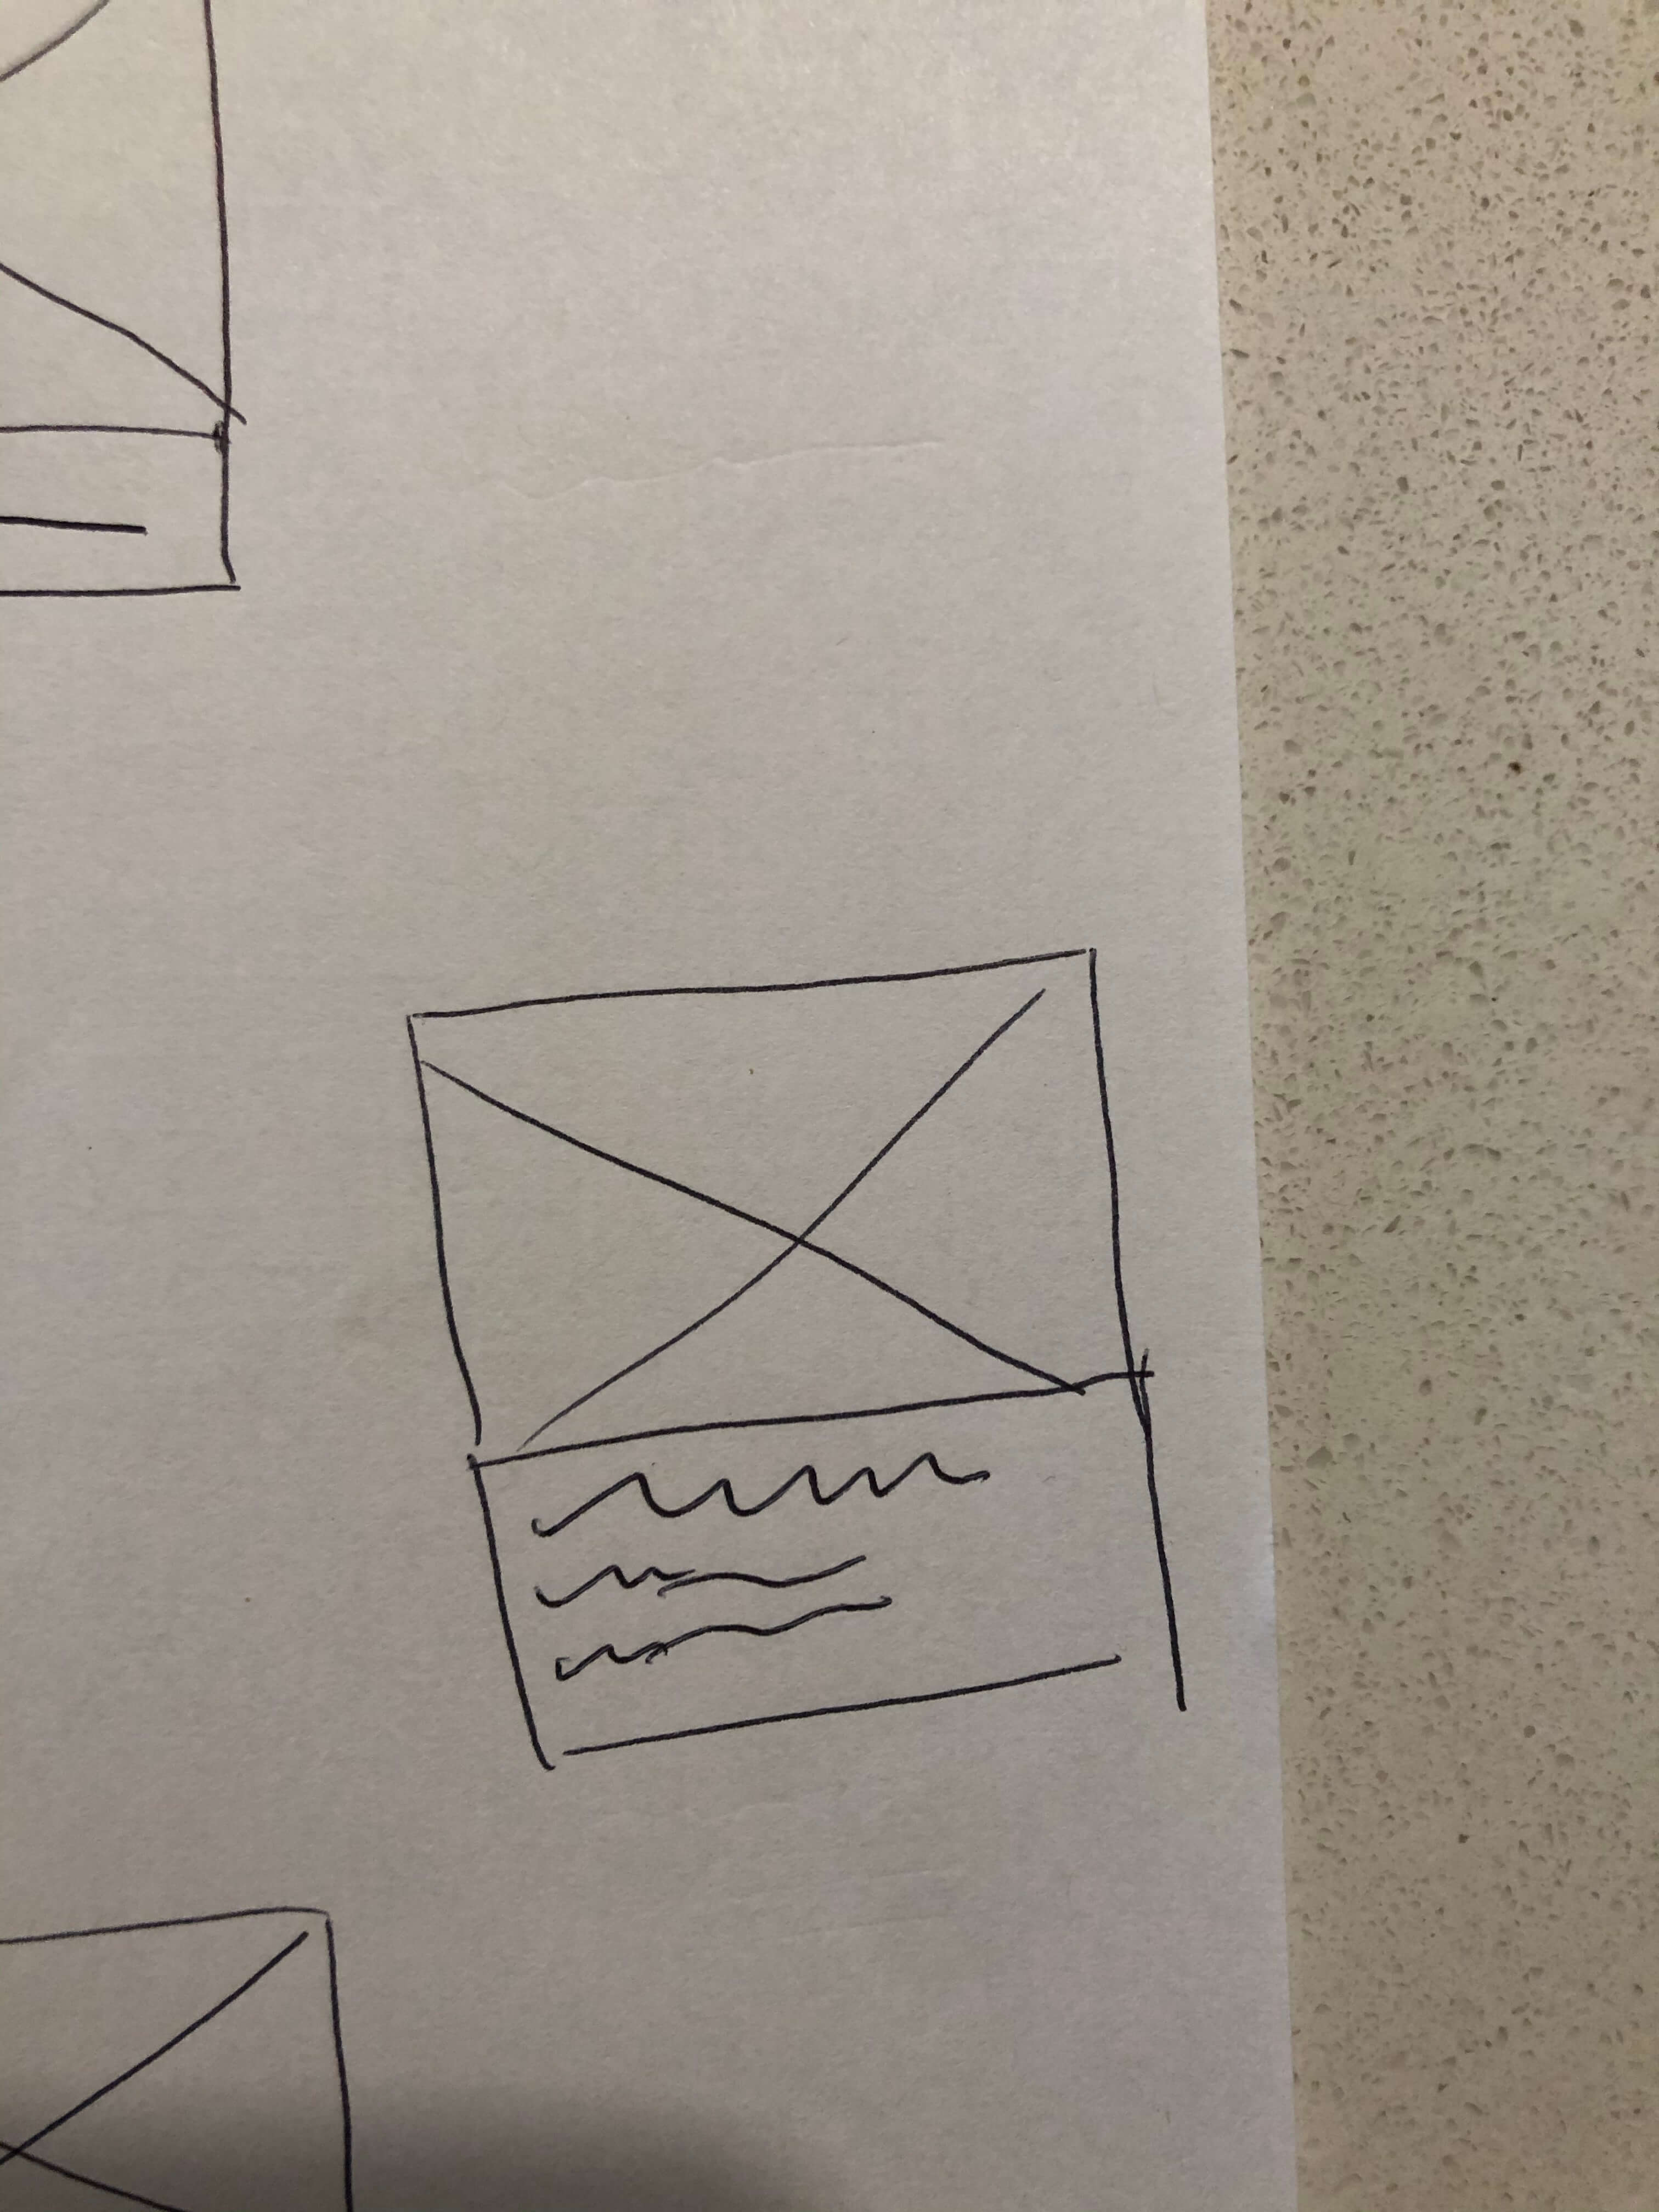card: (378, 942, 1211, 1787)
